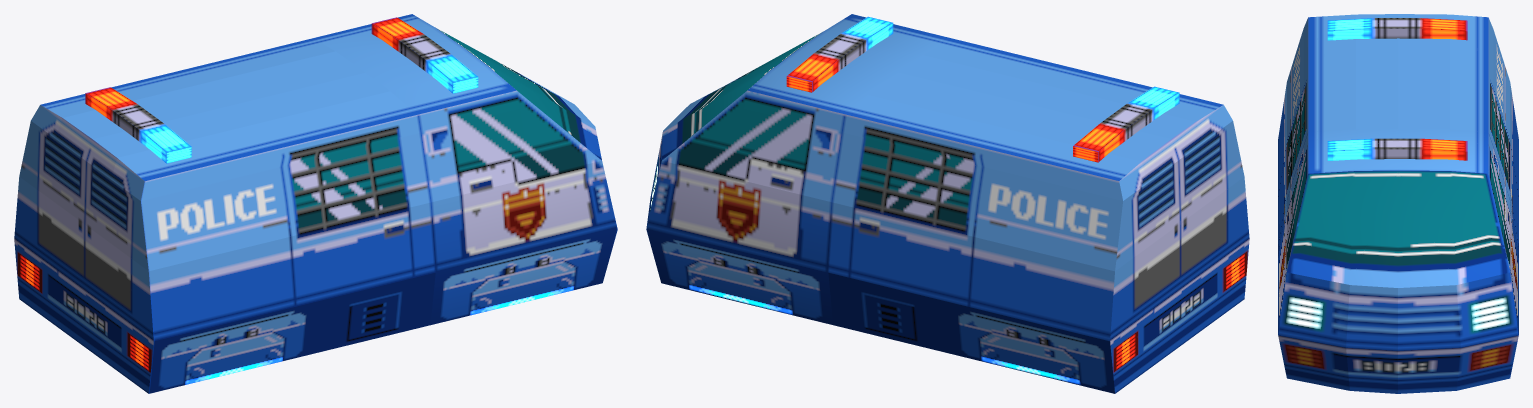
Rendered from police_van.FBX.
3 renders of one model, left to right at view 1: azimuth 30°, elevation 25°; view 2: azimuth 150°, elevation 25°; view 3: azimuth 270°, elevation 25°, orthographic. The views are drawn at different scales.
Visible parts, largest first — view 1: van_police; view 2: van_police; view 3: van_police.
Part boxes in pixels (x1=…): van_police: x1=14, y1=14, x2=617, y2=393; van_police: x1=646, y1=14, x2=1249, y2=393; van_police: x1=1278, y1=14, x2=1518, y2=393.
Size of the model in its own units: 56.46 by 23.35 by 27.27.
1 material, 1 textured.
